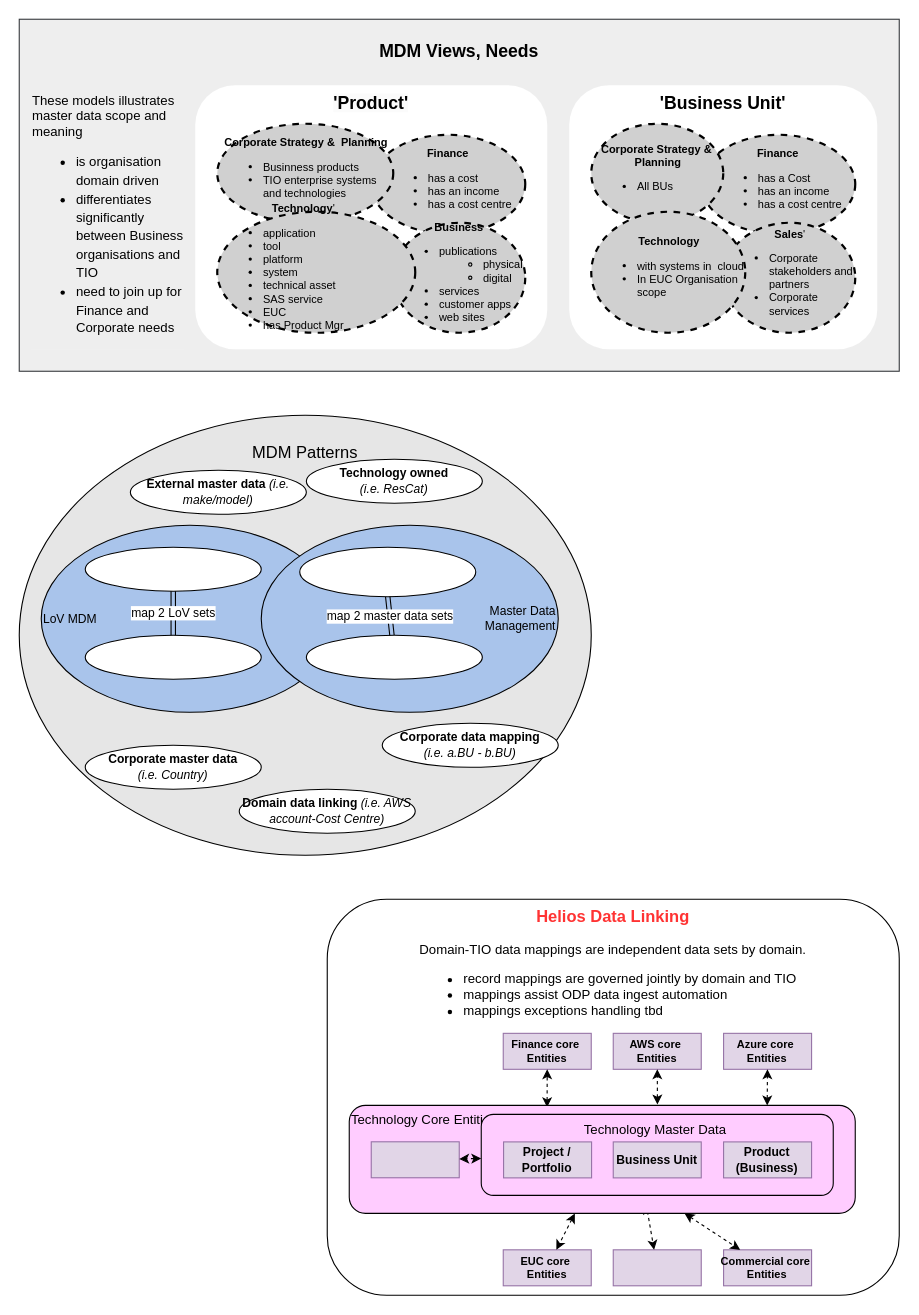
This 919x1315 diagram has some shape labels left out. The centre of each missing label's shape, as x and y in pixels:
"Business core Entities" goes at [656,1267].
"CI" goes at [414,1159].
"Data Set/Domain LoV mapping (i.e. Application)" goes at [172,656].
"List of Values (LoV) (i.e. ResCat)" goes at [172,568].
"Master Data (i.e. AWS Account)" goes at [387,571].
"Master Data mapping (i.e. AWS account - Cost Centre)" goes at [393,656].
